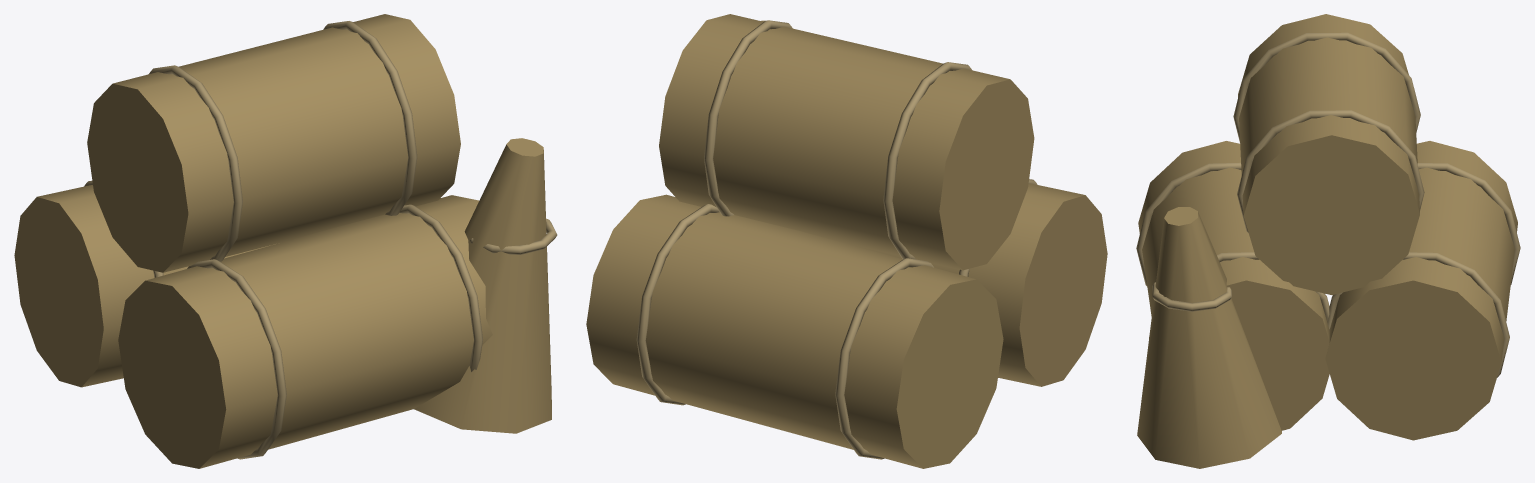
File: hay-bales.glb
The picture shows the model from 3 angles, left to right: view 1: azimuth 30°, elevation 25°; view 2: azimuth 150°, elevation 25°; view 3: azimuth 270°, elevation 25°; orthographic projection. The views are drawn at different scales.
Visible parts, largest first — view 1: village-thatch, burlap; view 2: village-thatch, burlap; view 3: village-thatch, burlap.
Boxes of the visible parts, x1,y1,x2,y2 form: village-thatch: (14, 14, 551, 468); burlap: (84, 21, 557, 459); village-thatch: (586, 14, 1107, 468); burlap: (636, 20, 1037, 459); village-thatch: (1137, 14, 1517, 468); burlap: (1136, 32, 1520, 377).
Size of the model in its own units: 1.74 by 1.54 by 1.74.
